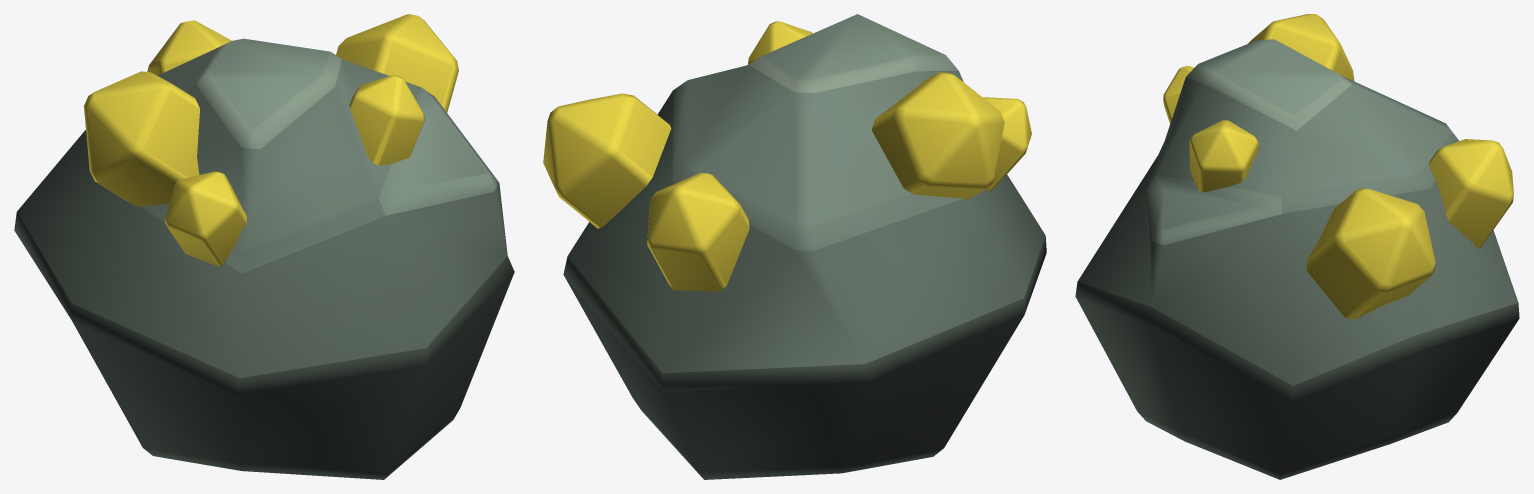
Rendered from ore_christal_topaz_M.fbx.
3 renders of one model, left to right at view 1: azimuth 30°, elevation 25°; view 2: azimuth 150°, elevation 25°; view 3: azimuth 270°, elevation 25°, orthographic. The views are drawn at different scales.
Visible parts, largest first — view 1: ore_christal_topaz_M; view 2: ore_christal_topaz_M; view 3: ore_christal_topaz_M.
Boxes of the visible parts, <box> form: ore_christal_topaz_M: <box>14,14,514,479</box>; ore_christal_topaz_M: <box>543,14,1046,479</box>; ore_christal_topaz_M: <box>1075,14,1519,479</box>.
Bounding box in the file's own units: 139 × 132 × 139.
1 material, 1 textured.
